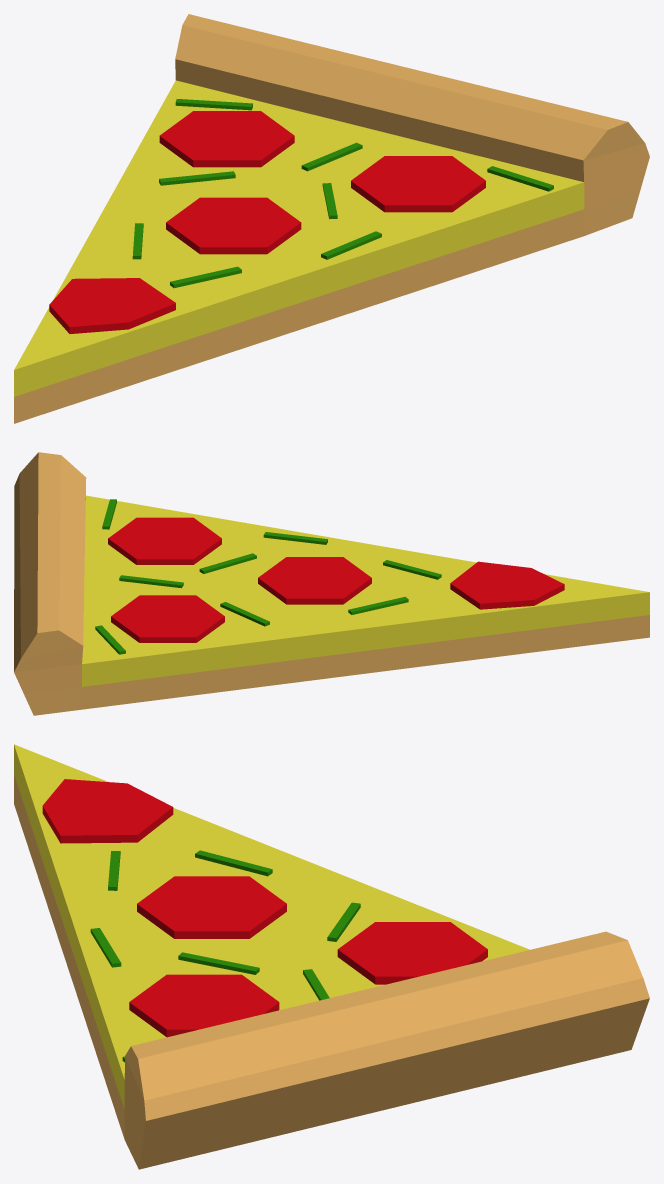
Rendered from Pizza.fbx.
3 renders of one model, top to bottom at view 1: azimuth 30°, elevation 25°; view 2: azimuth 150°, elevation 25°; view 3: azimuth 270°, elevation 25°, orthographic. The views are drawn at different scales.
Parts seen in each view (by area): view 1: Cylinder; view 2: Cylinder; view 3: Cylinder.
Boxes of the visible parts, <box> form: Cylinder: <box>14,14,649,423</box>; Cylinder: <box>14,452,649,715</box>; Cylinder: <box>14,744,649,1169</box>.
Size of the model in its own units: 269 by 36.1 by 192.
